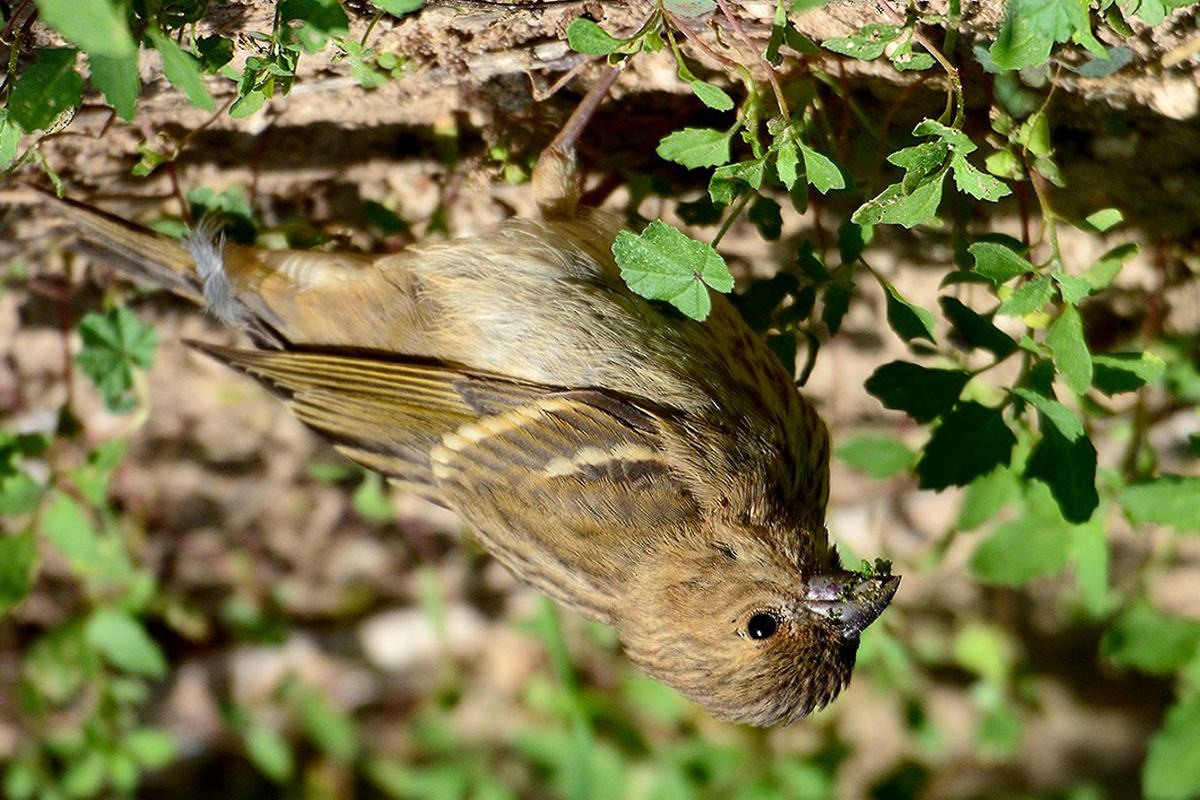rosefinch: (187, 171, 914, 756)
